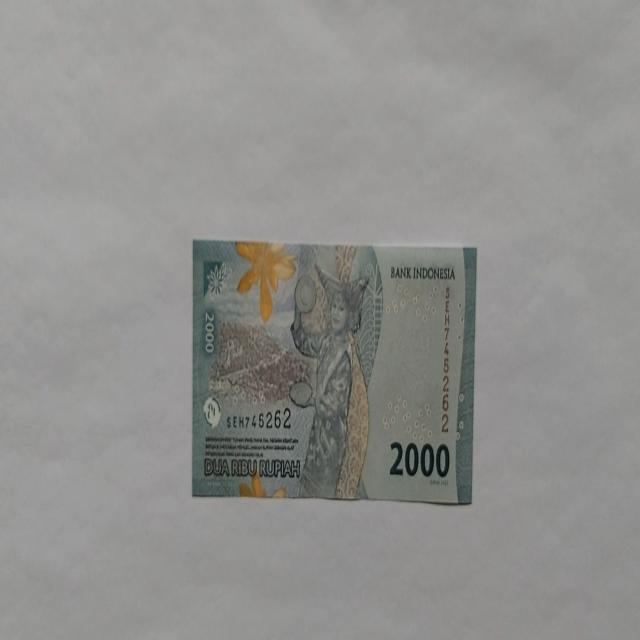dua ribu rupiah: (191, 239, 477, 505), (288, 262, 372, 499)
